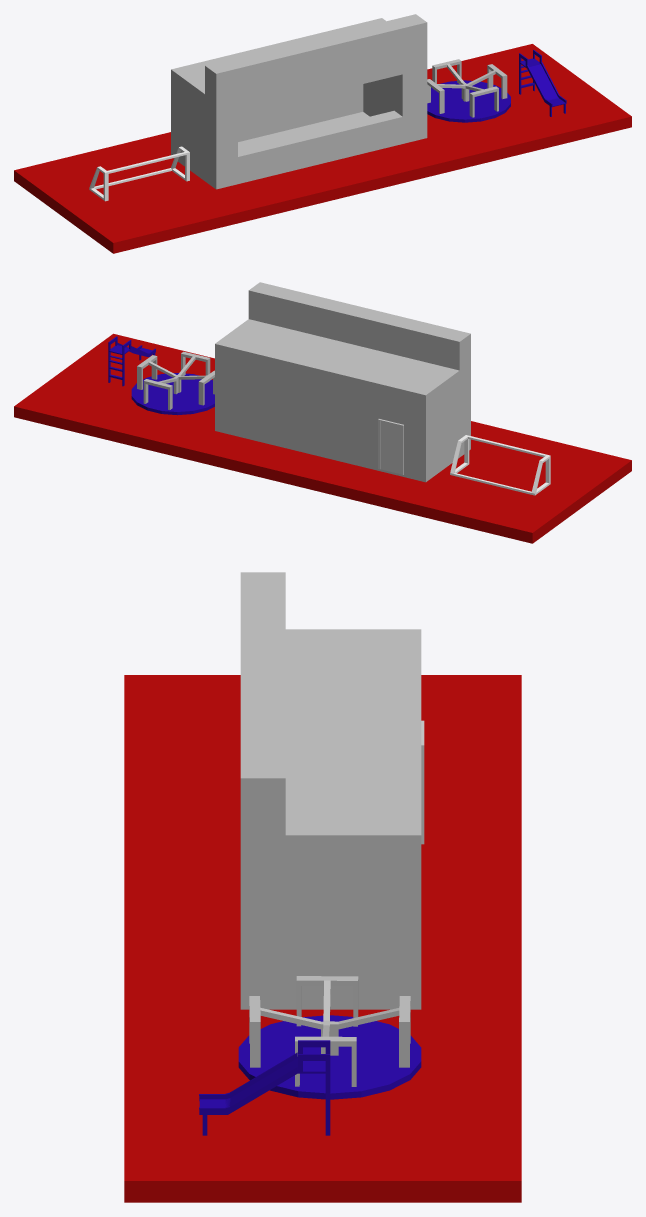
File: soccer2.glb
3 views of the same model, one above another, from view 1: azimuth 30°, elevation 25°; view 2: azimuth 150°, elevation 25°; view 3: azimuth 270°, elevation 25° (orthographic). The views are drawn at different scales.
Visible parts, largest first — view 1: Box048, Box001, marybase, maryhandles, Box007, slide; view 2: Box001, Box048, marybase, maryhandles, Box007, PivotDoor0, slide; view 3: Box048, Box001, marybase, maryhandles, slide.
Boxes of the visible parts, x1=… form: Box048: x1=14, y1=44, x2=631, y2=253; Box001: x1=171, y1=14, x2=427, y2=189; marybase: x1=427, y1=80, x2=510, y2=122; maryhandles: x1=427, y1=59, x2=507, y2=117; Box007: x1=89, y1=146, x2=189, y2=201; slide: x1=519, y1=49, x2=566, y2=116; Box001: x1=215, y1=282, x2=470, y2=482; Box048: x1=14, y1=333, x2=631, y2=543; marybase: x1=131, y1=373, x2=214, y2=415; maryhandles: x1=137, y1=351, x2=214, y2=409; Box007: x1=450, y1=435, x2=550, y2=495; PivotDoor0: x1=378, y1=419, x2=403, y2=474; slide: x1=108, y1=336, x2=155, y2=386; Box048: x1=124, y1=675, x2=521, y2=1202; Box001: x1=240, y1=572, x2=421, y2=1009; marybase: x1=238, y1=1015, x2=421, y2=1099; maryhandles: x1=249, y1=976, x2=410, y2=1086; slide: x1=199, y1=1040, x2=330, y2=1135.
Bounding box in the file's own units: 7.95 × 1.85 × 2.64.
